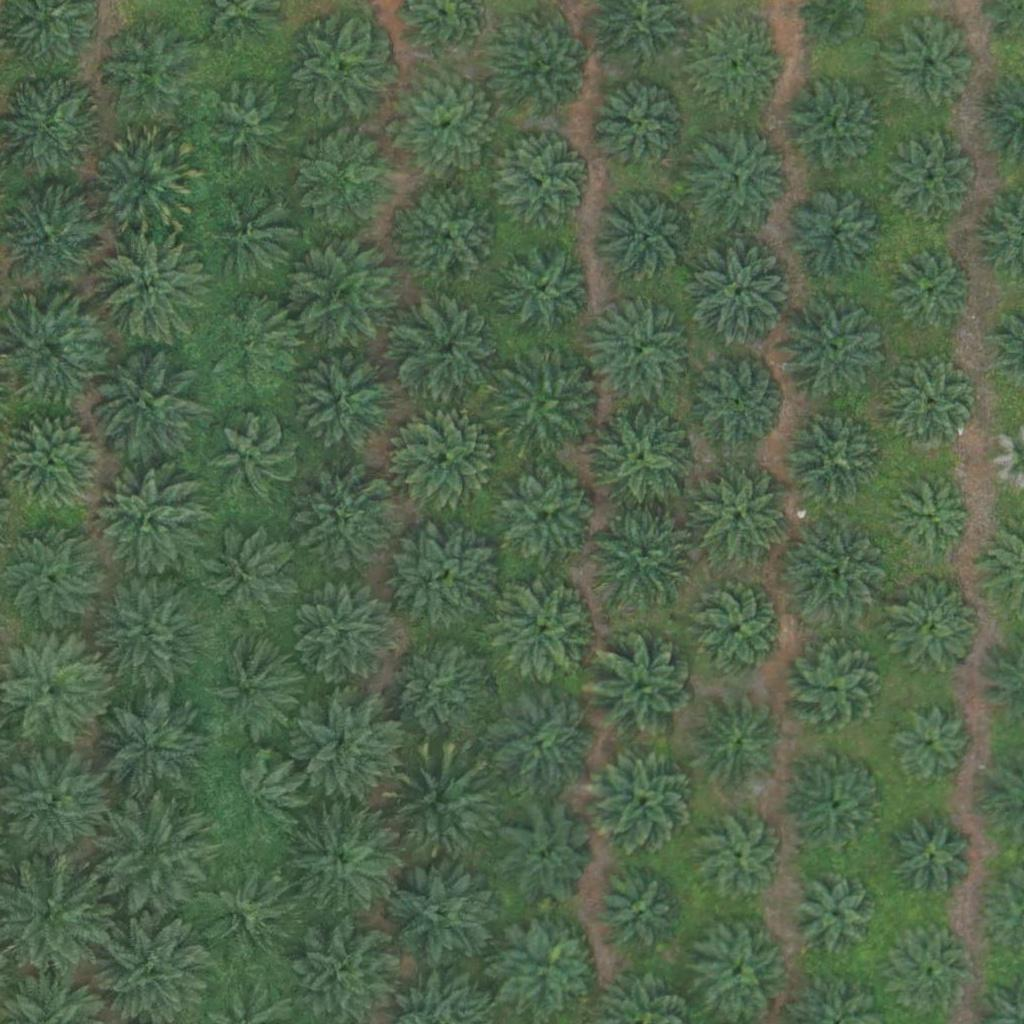Kelapa_Sawit: (391, 69, 504, 183), (395, 181, 508, 295), (492, 345, 605, 459), (584, 402, 697, 516), (592, 501, 705, 615), (89, 125, 202, 238), (93, 229, 206, 342), (88, 346, 201, 459), (92, 468, 205, 581), (290, 576, 403, 689), (779, 292, 892, 405), (586, 633, 699, 746), (588, 743, 701, 856), (387, 856, 500, 969), (292, 690, 405, 803), (283, 803, 396, 916), (582, 295, 694, 409), (779, 517, 891, 631), (96, 797, 208, 911), (95, 576, 207, 689), (293, 239, 405, 352), (291, 347, 403, 460), (395, 296, 507, 409), (394, 520, 506, 633), (686, 236, 798, 349), (385, 636, 497, 749), (384, 751, 496, 864), (94, 691, 206, 804), (97, 22, 197, 123), (1, 410, 101, 511), (299, 471, 399, 572), (397, 407, 497, 508), (494, 21, 594, 122), (499, 464, 599, 565), (595, 80, 695, 181), (597, 186, 697, 287), (688, 18, 788, 119), (690, 124, 790, 225), (784, 76, 884, 177), (787, 184, 887, 285), (785, 408, 885, 509), (881, 14, 981, 115), (688, 692, 788, 793), (689, 920, 789, 1021), (492, 579, 592, 680), (489, 691, 589, 792), (498, 807, 598, 908), (499, 917, 599, 1018), (204, 637, 304, 738), (290, 21, 390, 121), (303, 131, 403, 231), (494, 130, 594, 230), (497, 241, 597, 341), (689, 352, 789, 452), (691, 469, 791, 569), (885, 576, 985, 676), (784, 638, 884, 738), (788, 754, 888, 854), (688, 579, 788, 679), (196, 864, 296, 964), (889, 138, 977, 227), (208, 196, 296, 284), (888, 705, 976, 793), (597, 869, 685, 957), (213, 754, 301, 842), (213, 86, 300, 174), (212, 300, 299, 388), (207, 414, 294, 502), (208, 530, 295, 618), (886, 252, 973, 340), (889, 362, 976, 450), (795, 868, 882, 956), (697, 812, 784, 900), (895, 479, 970, 555), (897, 822, 972, 898), (895, 933, 970, 1009)
